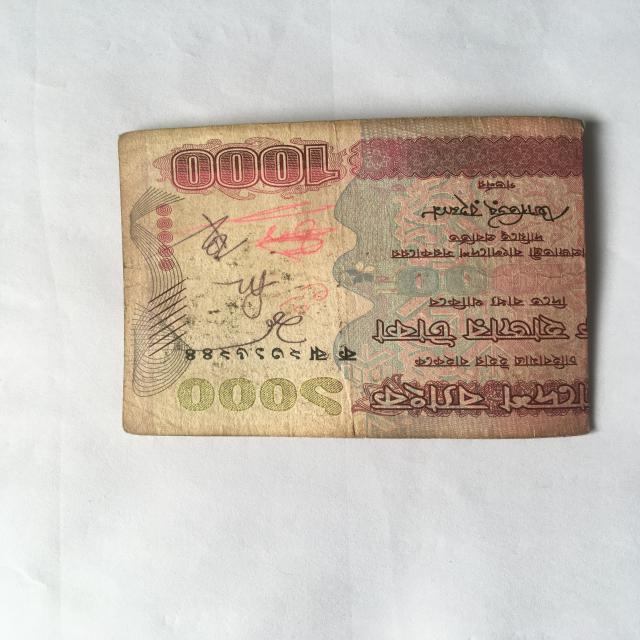Taka: (116, 118, 600, 443)
